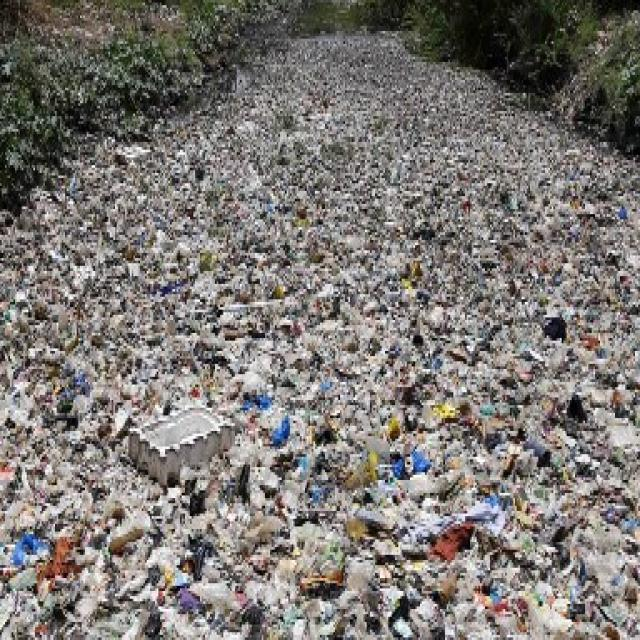-: (0, 371, 640, 640), (300, 0, 367, 328), (418, 75, 492, 335), (198, 118, 278, 241)
